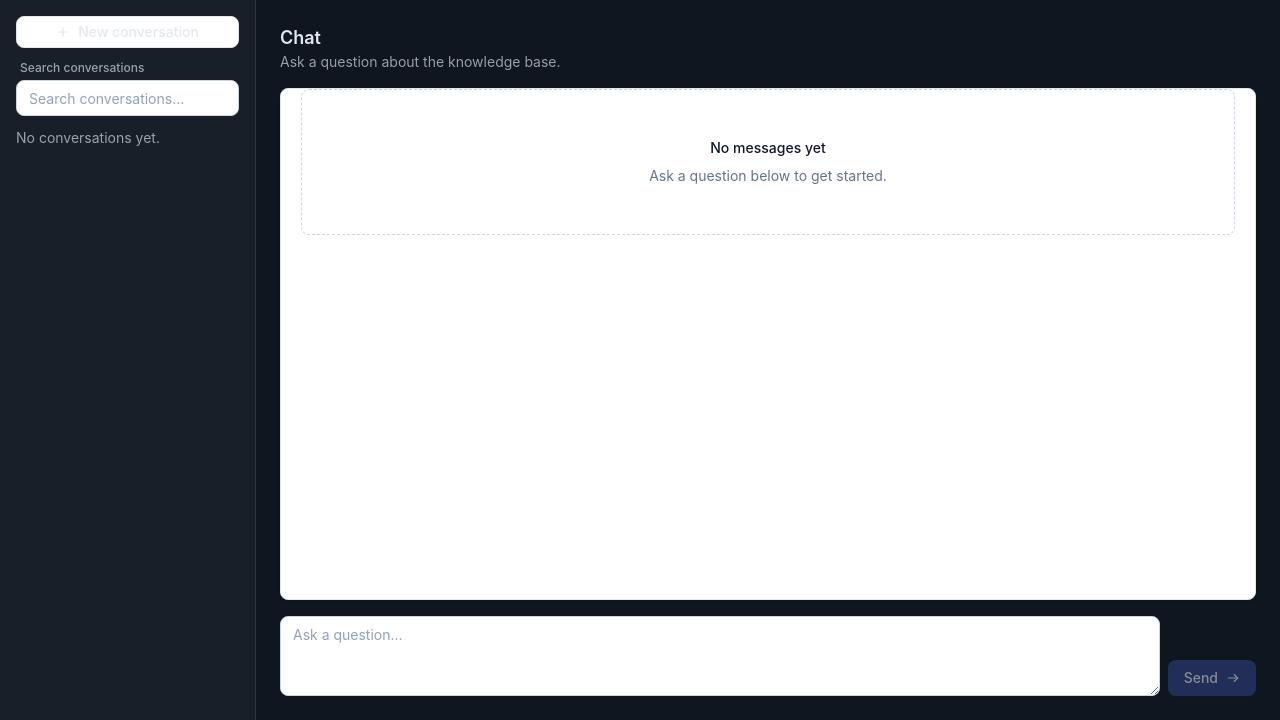
Test: Chat screen › AC-061: a provider error renders inline, does not blank the page, and the composer stays usable
Check: the text "No messages yet" is shown, box [710, 138, 826, 158]
Type "Will this fail?" into the text box with placeholder "Ask a question…" at [720, 656], box [280, 616, 1160, 696]
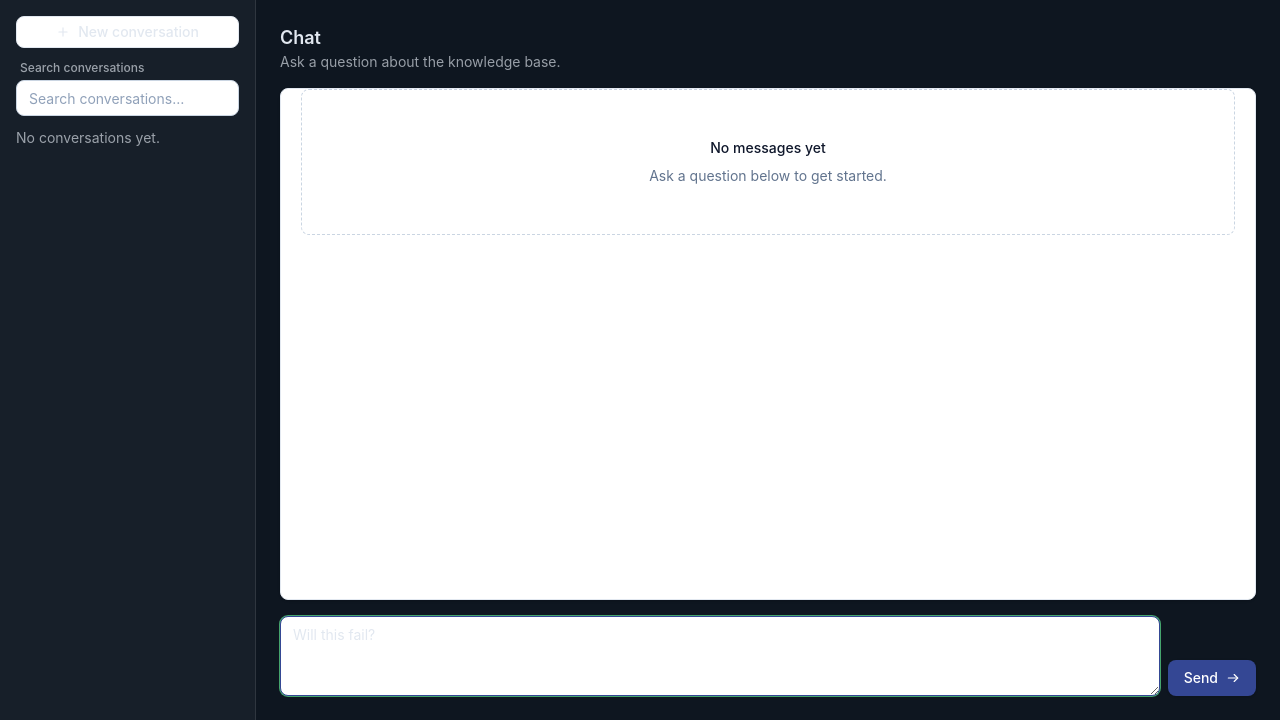
Click the button "Send" at [1212, 678], box [1168, 660, 1256, 696]
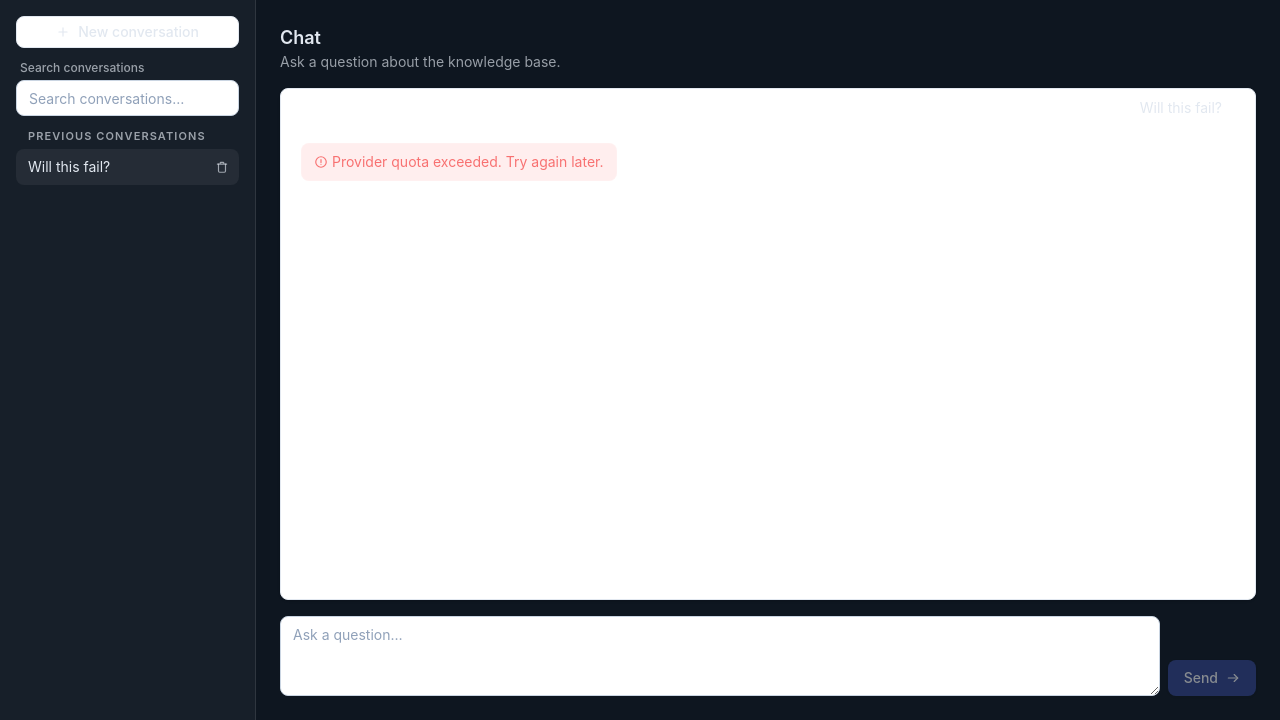
Check: the text box with placeholder "Ask a question…" is enabled, box [280, 616, 1160, 696]
Check: the message shows "quota exceeded", box [332, 153, 604, 170]
